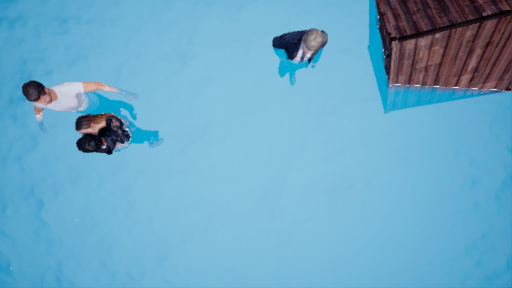person: (20, 77, 163, 162), (259, 27, 331, 91)
